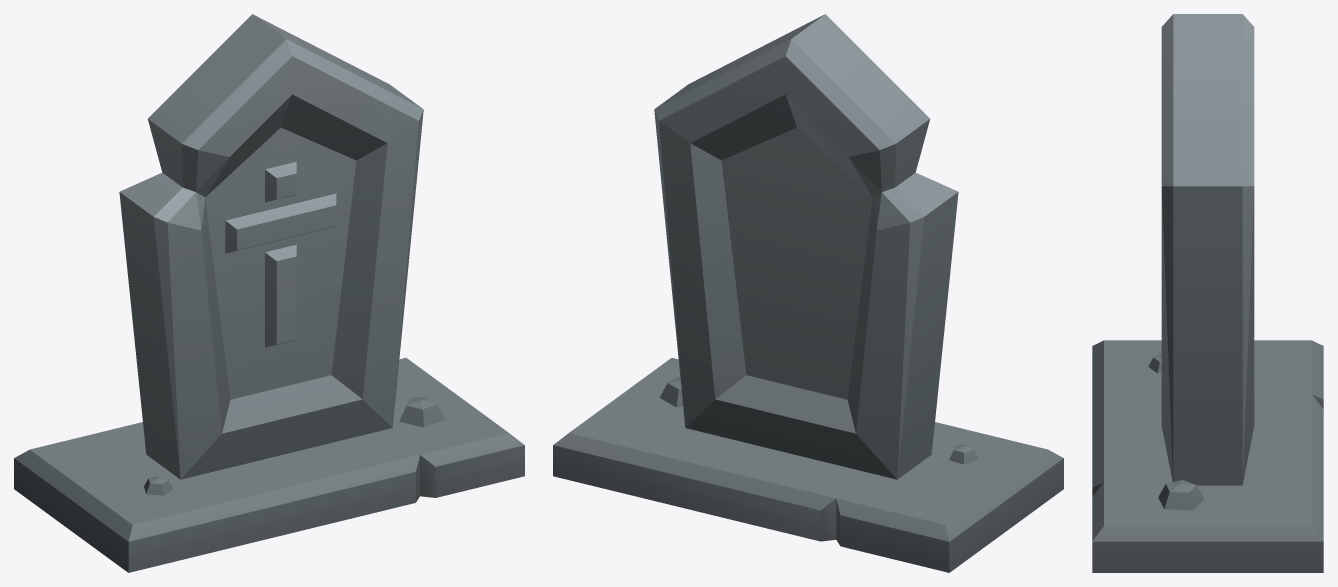
File: kay-tumulo.gltf
The picture shows the model from 3 angles, left to right: view 1: azimuth 30°, elevation 25°; view 2: azimuth 150°, elevation 25°; view 3: azimuth 270°, elevation 25°; orthographic projection.
Parts seen in each view (by area): view 1: grave_B; view 2: grave_B; view 3: grave_B.
Part boxes in pixels (box(x1,y1,x2,y2)): grave_B: box(14, 14, 524, 572); grave_B: box(553, 14, 1063, 572); grave_B: box(1092, 14, 1323, 572).
Bounding box in the file's own units: 1 × 1.1 × 0.5.
Materials: 1 (1 with a texture image).
